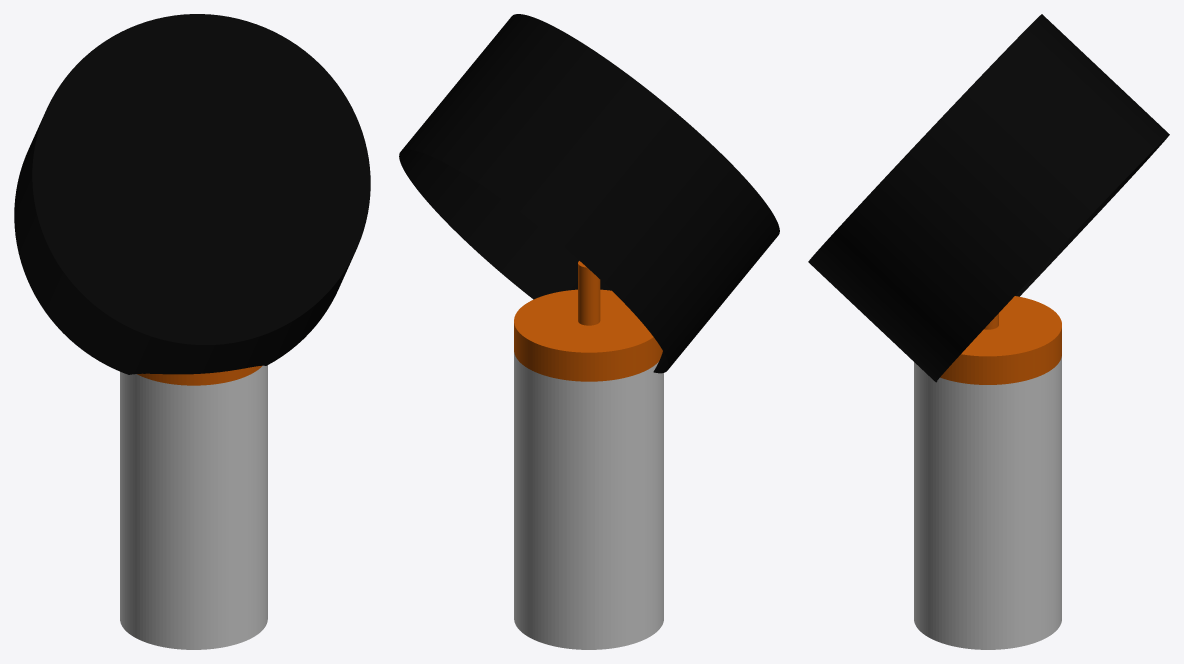
The model's file is lamp20.obj.
The picture shows the model from 3 angles, left to right: view 1: azimuth 30°, elevation 25°; view 2: azimuth 150°, elevation 25°; view 3: azimuth 270°, elevation 25°; orthographic projection.
Visible parts, largest first — view 1: Cylinder.002, Cylinder, Cylinder.001; view 2: Cylinder.002, Cylinder, Cylinder.001; view 3: Cylinder.002, Cylinder, Cylinder.001.
Part boxes in pixels (<box>): Cylinder.002: <box>14,14,370,374</box>; Cylinder: <box>120,365,267,649</box>; Cylinder.001: <box>137,365,262,385</box>; Cylinder.002: <box>399,14,779,373</box>; Cylinder: <box>514,352,663,649</box>; Cylinder.001: <box>514,261,662,381</box>; Cylinder.002: <box>808,14,1169,382</box>; Cylinder: <box>914,356,1061,649</box>; Cylinder.001: <box>940,296,1061,384</box>.
Size of what is drawn, in the model's own units: 5.1 by 8.79 by 4.88.
